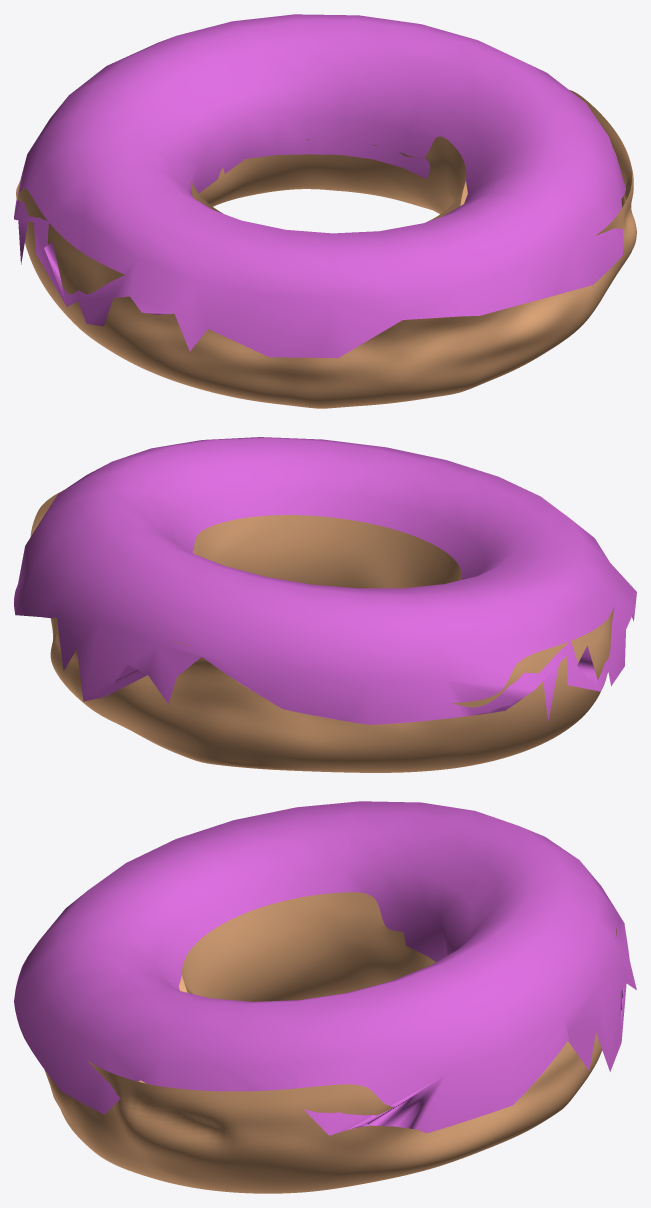
Rendered from donut.glb.
3 renders of one model, top to bottom at view 1: azimuth 30°, elevation 25°; view 2: azimuth 150°, elevation 25°; view 3: azimuth 270°, elevation 25°, orthographic. The views are drawn at different scales.
Parts seen in each view (by area): view 1: gora.001, dol; view 2: gora.001, dol; view 3: gora.001, dol.
Boxes of the visible parts, x1=… form: gora.001: x1=14, y1=14, x2=625, y2=358; dol: x1=16, y1=90, x2=636, y2=408; gora.001: x1=14, y1=437, x2=636, y2=724; dol: x1=30, y1=490, x2=614, y2=772; gora.001: x1=14, y1=801, x2=636, y2=1135; dol: x1=44, y1=892, x2=616, y2=1193.
Bounding box in the file's own units: 0.1519 × 0.058 × 0.1422.
